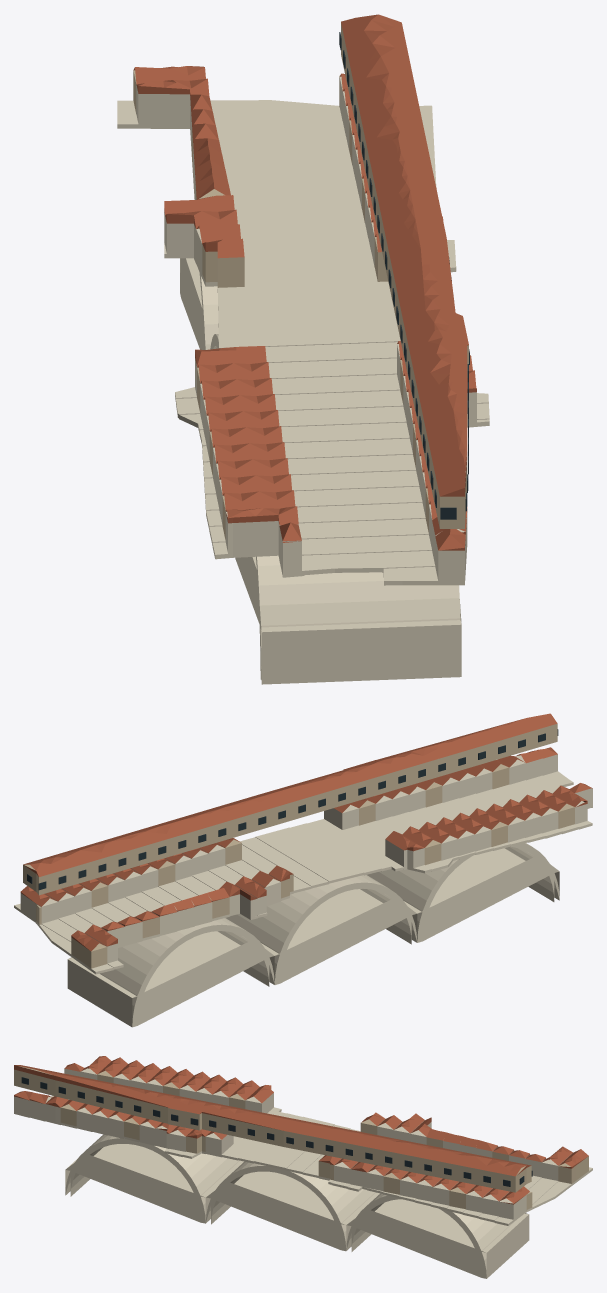
Rendered from ponte-vecchio.glb.
The picture shows the model from 3 angles, top to bottom: view 1: azimuth 30°, elevation 25°; view 2: azimuth 150°, elevation 25°; view 3: azimuth 270°, elevation 25°; orthographic projection. The views are drawn at different scales.
Visible parts, largest first — view 1: bridge-deck, roof, open-bridge-arches, shop-roofs, bridge-shops (×2), vasari-elevated-corridor, facade-windows; view 2: open-bridge-arches, bridge-shops (×2), bridge-deck, shop-roofs, roof, vasari-elevated-corridor, facade-windows; view 3: open-bridge-arches, bridge-shops (×2), shop-roofs, vasari-elevated-corridor, roof, bridge-deck, facade-windows.
Boxes of the visible parts, x1,y1,x2,y2 form: bridge-deck: (117,100,489,585); roof: (341,14,468,496); open-bridge-arches: (180,258,461,684); shop-roofs: (133,66,476,550); bridge-shops (×2): (133,70,476,580); vasari-elevated-corridor: (341,23,468,528); facade-windows: (339,32,469,519); open-bridge-arches: (67,843,559,1027); bridge-shops (×2): (20,754,592,968); bridge-deck: (14,771,592,974); shop-roofs: (20,747,592,951); roof: (23,713,557,876); vasari-elevated-corridor: (23,723,557,895); facade-windows: (27,729,558,890); open-bridge-arches: (65,1134,529,1278); bridge-shops (×2): (14,1068,588,1219); shop-roofs: (14,1056,588,1204); vasari-elevated-corridor: (14,1066,531,1192); roof: (14,1065,531,1176); bridge-deck: (14,1095,592,1225); facade-windows: (21,1077,532,1186).
Size of the model in its own units: 9.95 by 3.66 by 16.
